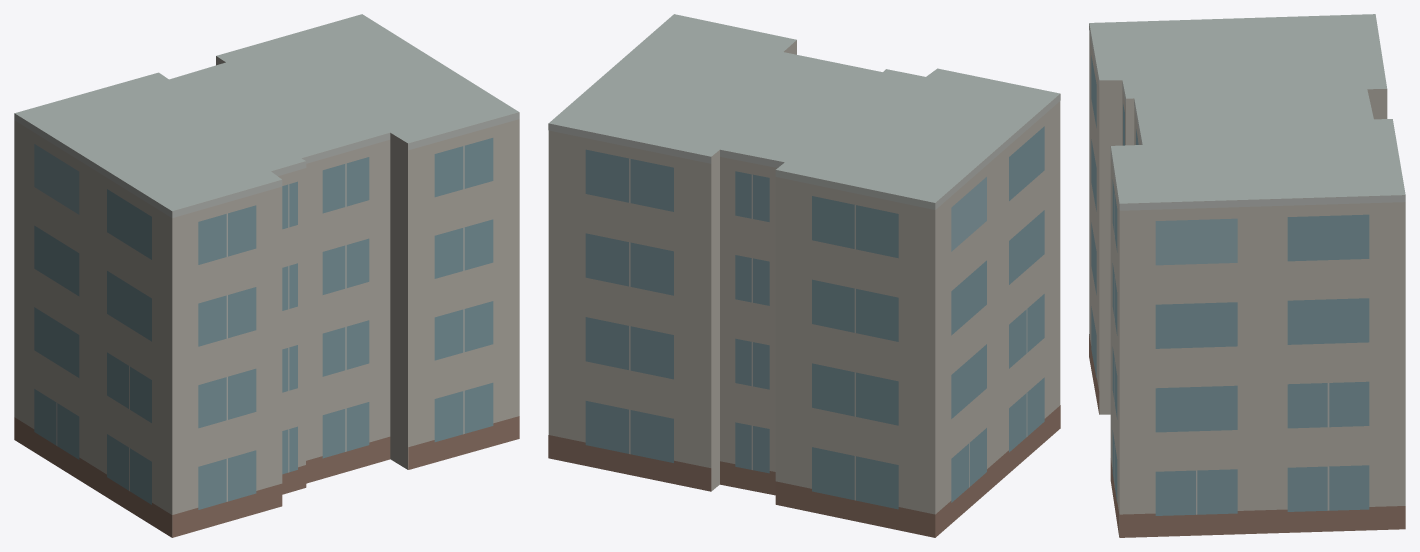
File: survey-upis-32983088.glb
3 renders of one model, left to right at view 1: azimuth 30°, elevation 25°; view 2: azimuth 150°, elevation 25°; view 3: azimuth 270°, elevation 25°, orthographic. The views are drawn at different scales.
Visible parts, largest first — view 1: survey-upis-32983088.tmp; view 2: survey-upis-32983088.tmp; view 3: survey-upis-32983088.tmp.
Boxes of the visible parts, bbox=[...] form: survey-upis-32983088.tmp: bbox=[14, 14, 519, 537]; survey-upis-32983088.tmp: bbox=[548, 14, 1060, 537]; survey-upis-32983088.tmp: bbox=[1089, 14, 1405, 537].
Size of the model in its own units: 14.01 by 11.5 by 9.88.
